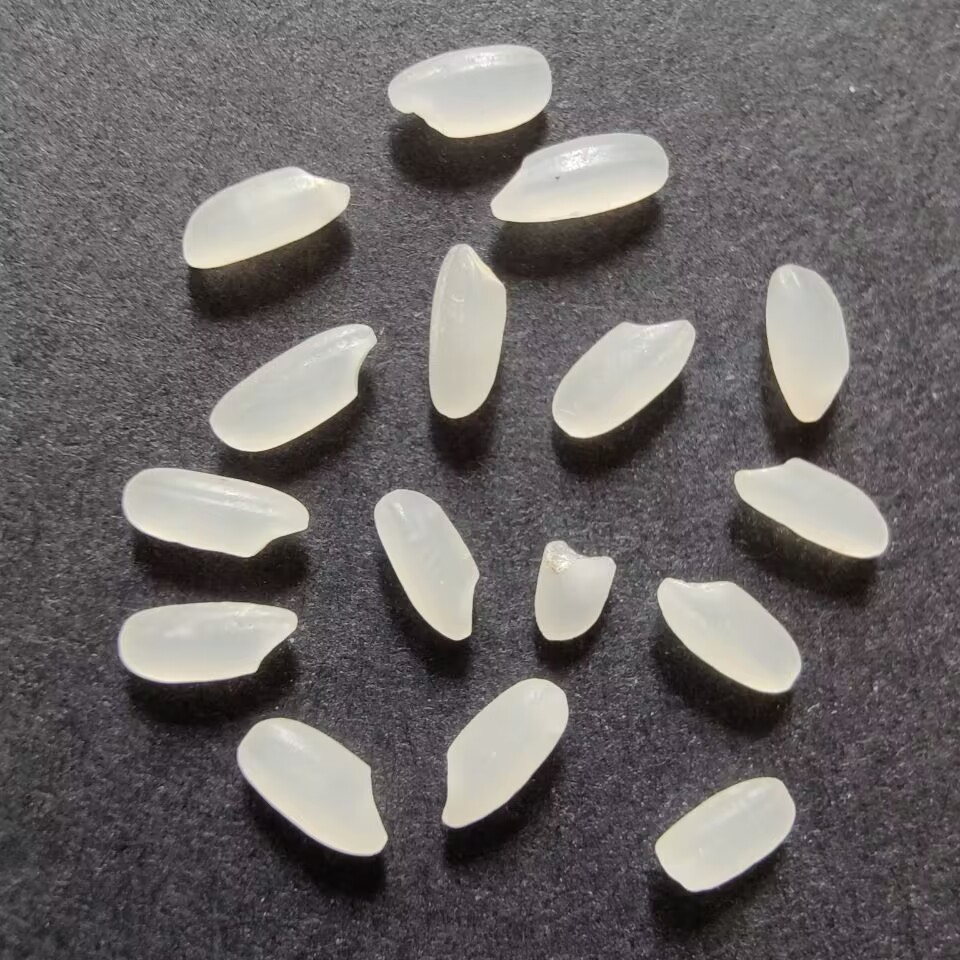broken: (648, 772, 802, 897), (528, 531, 616, 645)
rice: (428, 674, 576, 837), (231, 715, 393, 862), (204, 319, 379, 454), (543, 310, 702, 444), (175, 159, 357, 273), (649, 570, 806, 702), (482, 128, 675, 228), (721, 454, 896, 564), (369, 484, 485, 648), (116, 465, 313, 561), (384, 39, 557, 143), (112, 600, 305, 692), (758, 258, 858, 427), (424, 240, 512, 421)
